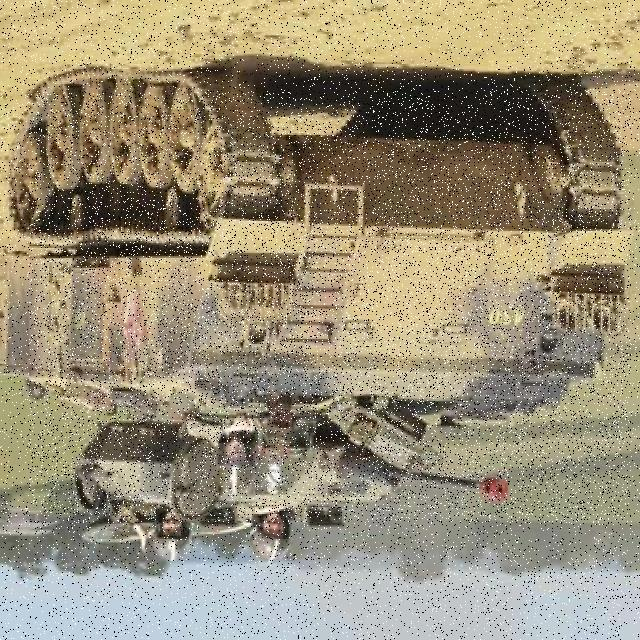MIL_MBT: (30, 91, 631, 522)
